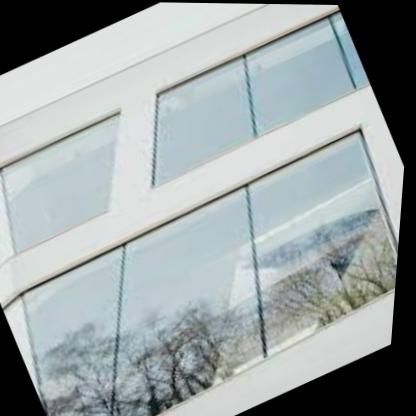Window: (0, 109, 410, 416), (110, 1, 382, 199)
